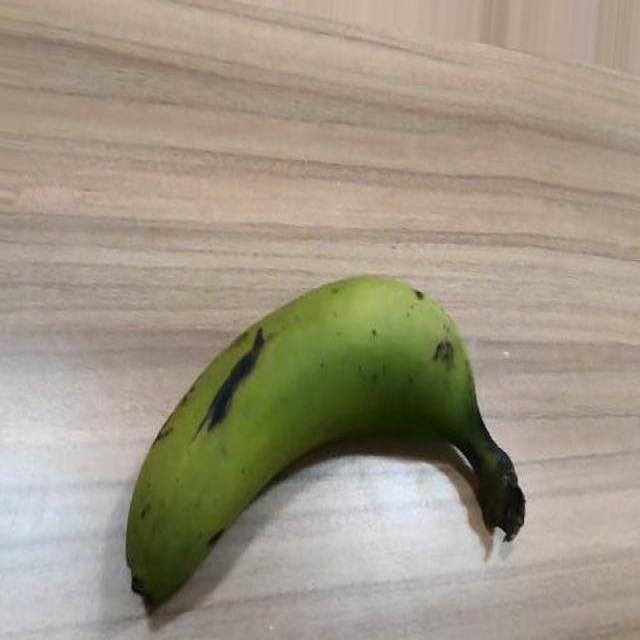Unripe: (123, 271, 529, 610)
